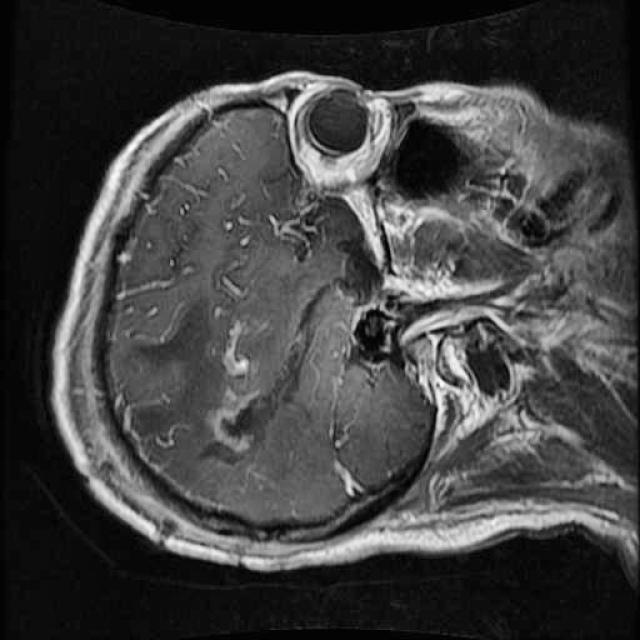Tumor: (200, 379, 305, 465)
